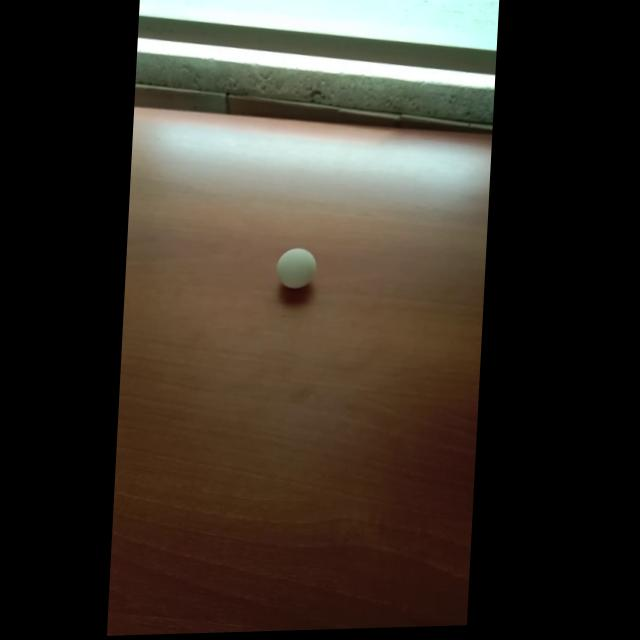white ball: (275, 246, 317, 289)
